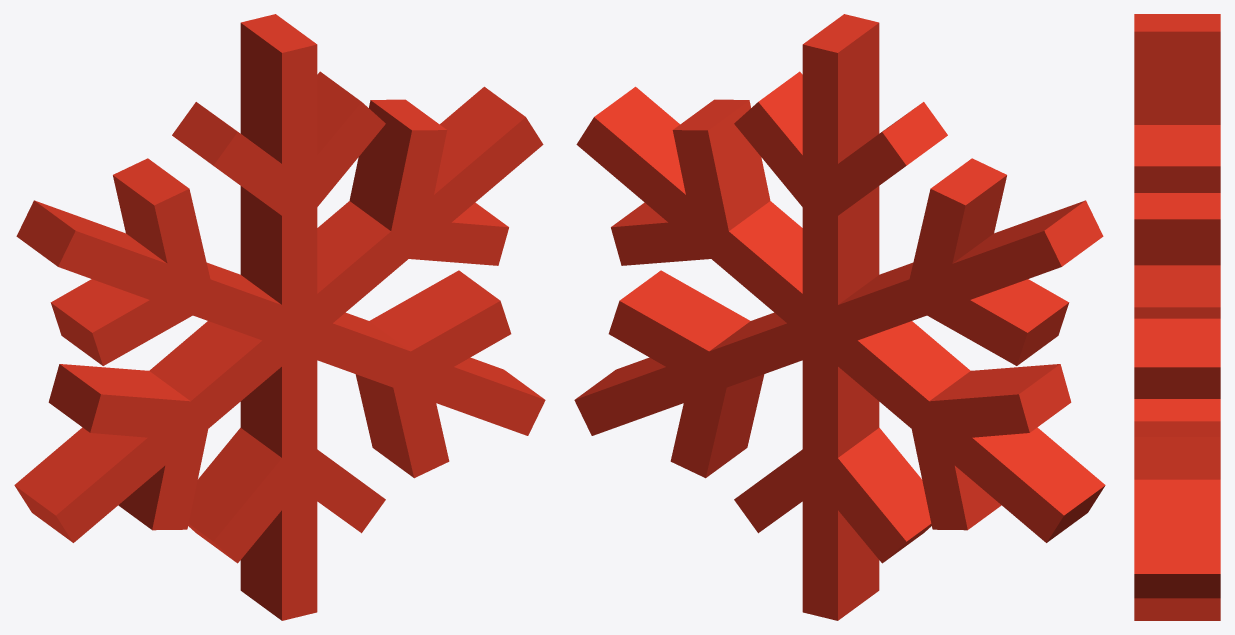
The model's file is Icon_Snowflake.fbx.
3 renders of one model, left to right at view 1: azimuth 30°, elevation 25°; view 2: azimuth 150°, elevation 25°; view 3: azimuth 270°, elevation 25°, orthographic. The views are drawn at different scales.
Visible parts, largest first — view 1: Icon_Snowflake; view 2: Icon_Snowflake; view 3: Icon_Snowflake.
Part boxes in pixels (x1,y1,x2,y2): Icon_Snowflake: (14,14,545,620); Icon_Snowflake: (574,14,1105,620); Icon_Snowflake: (1134,14,1220,620).
Bounding box in the file's own units: 62.62 × 69.39 × 9.22.
